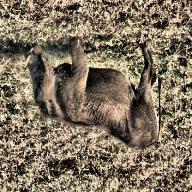boar: (0, 42, 178, 164)
